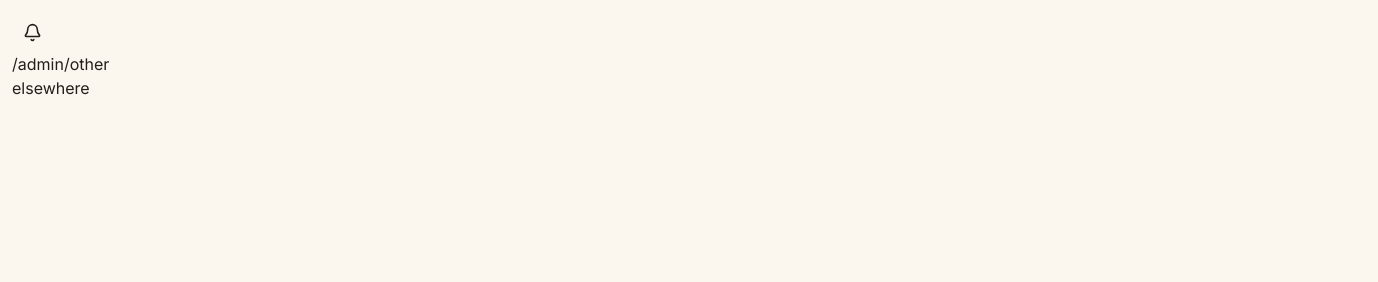
Test case: Bell — recent dropdown › shows an empty state
Click the button named "Notifications": click(32, 32) [12, 12, 52, 52]
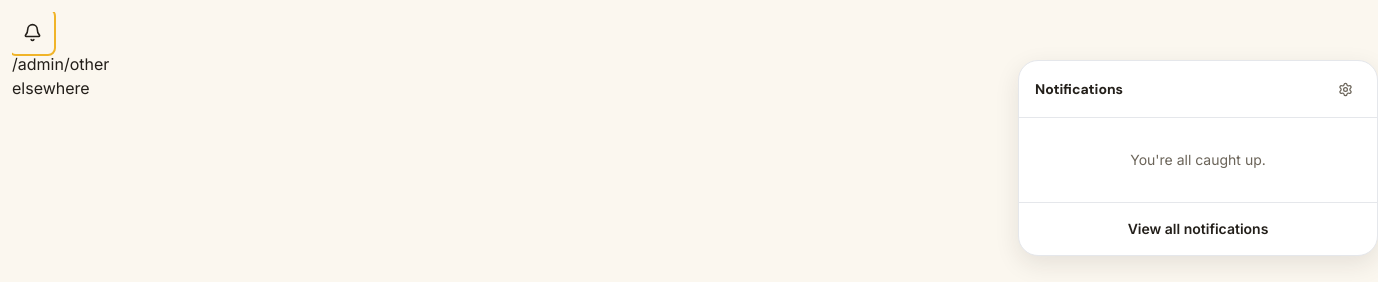
Result: the text "You're all caught up." is shown at [1130, 151, 1266, 168]
